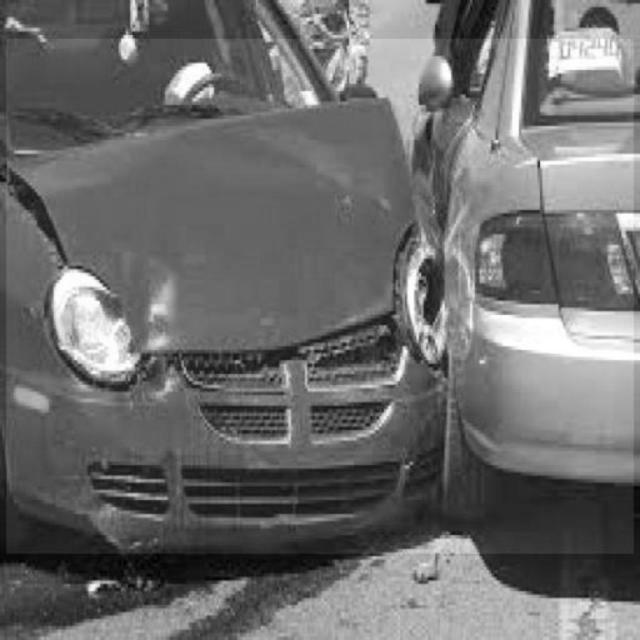accident: (7, 39, 634, 554)
